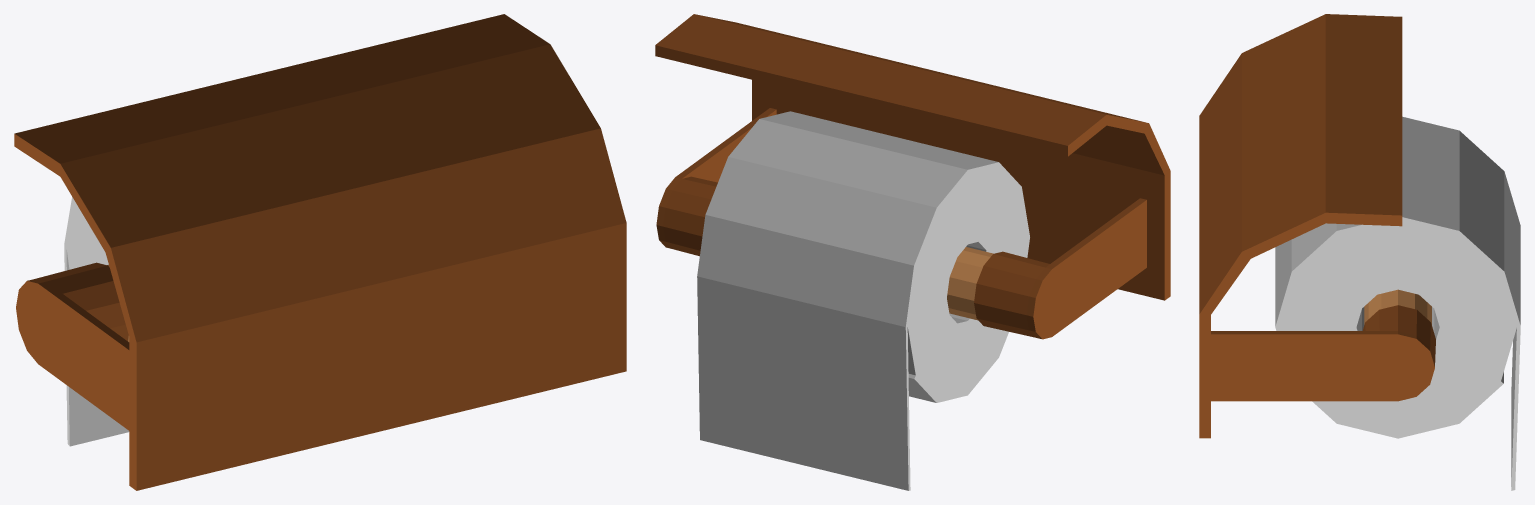
File: Toilet Paper Holder 2.fbx
The picture shows the model from 3 angles, left to right: view 1: azimuth 30°, elevation 25°; view 2: azimuth 150°, elevation 25°; view 3: azimuth 270°, elevation 25°; orthographic projection. The views are drawn at different scales.
Parts seen in each view (by area): view 1: Node 0; view 2: Node 0; view 3: Node 0.
Part boxes in pixels (bbox=[...]): Node 0: bbox=[14, 14, 626, 490]; Node 0: bbox=[655, 14, 1170, 490]; Node 0: bbox=[1199, 14, 1520, 490].
Bounding box in the file's own units: 0.2098 × 0.2357 × 0.3067.
